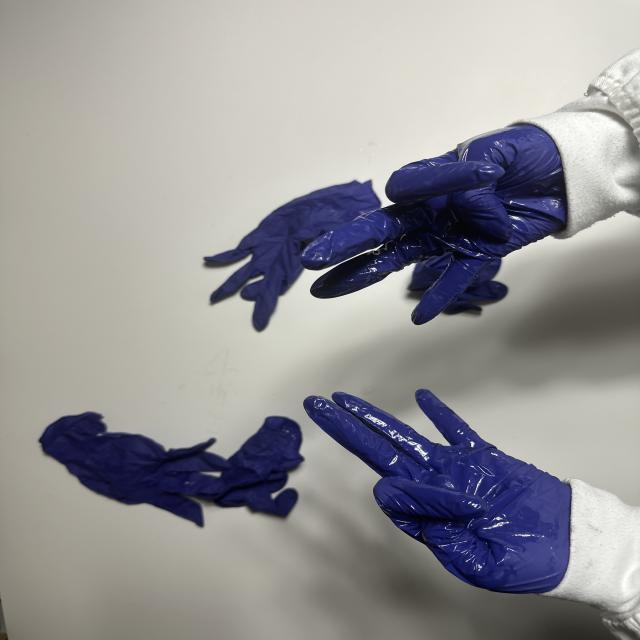gloves_contaminated: (304, 390, 571, 594), (303, 125, 567, 324)
